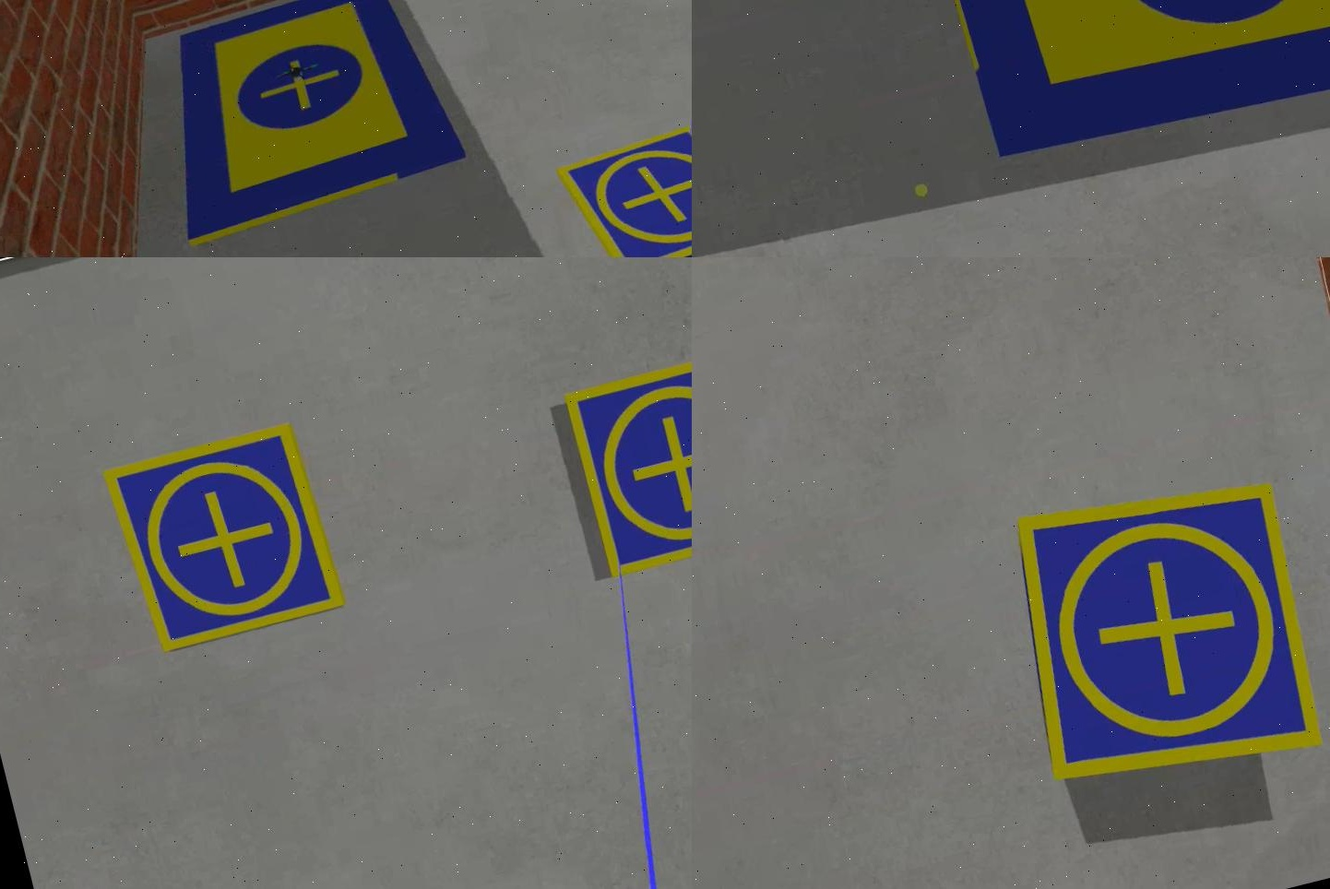large_base: (132, 1, 468, 247), (908, 1, 1328, 175)
small_base: (980, 454, 1328, 817), (98, 417, 352, 661), (552, 341, 690, 584), (549, 113, 690, 258)
